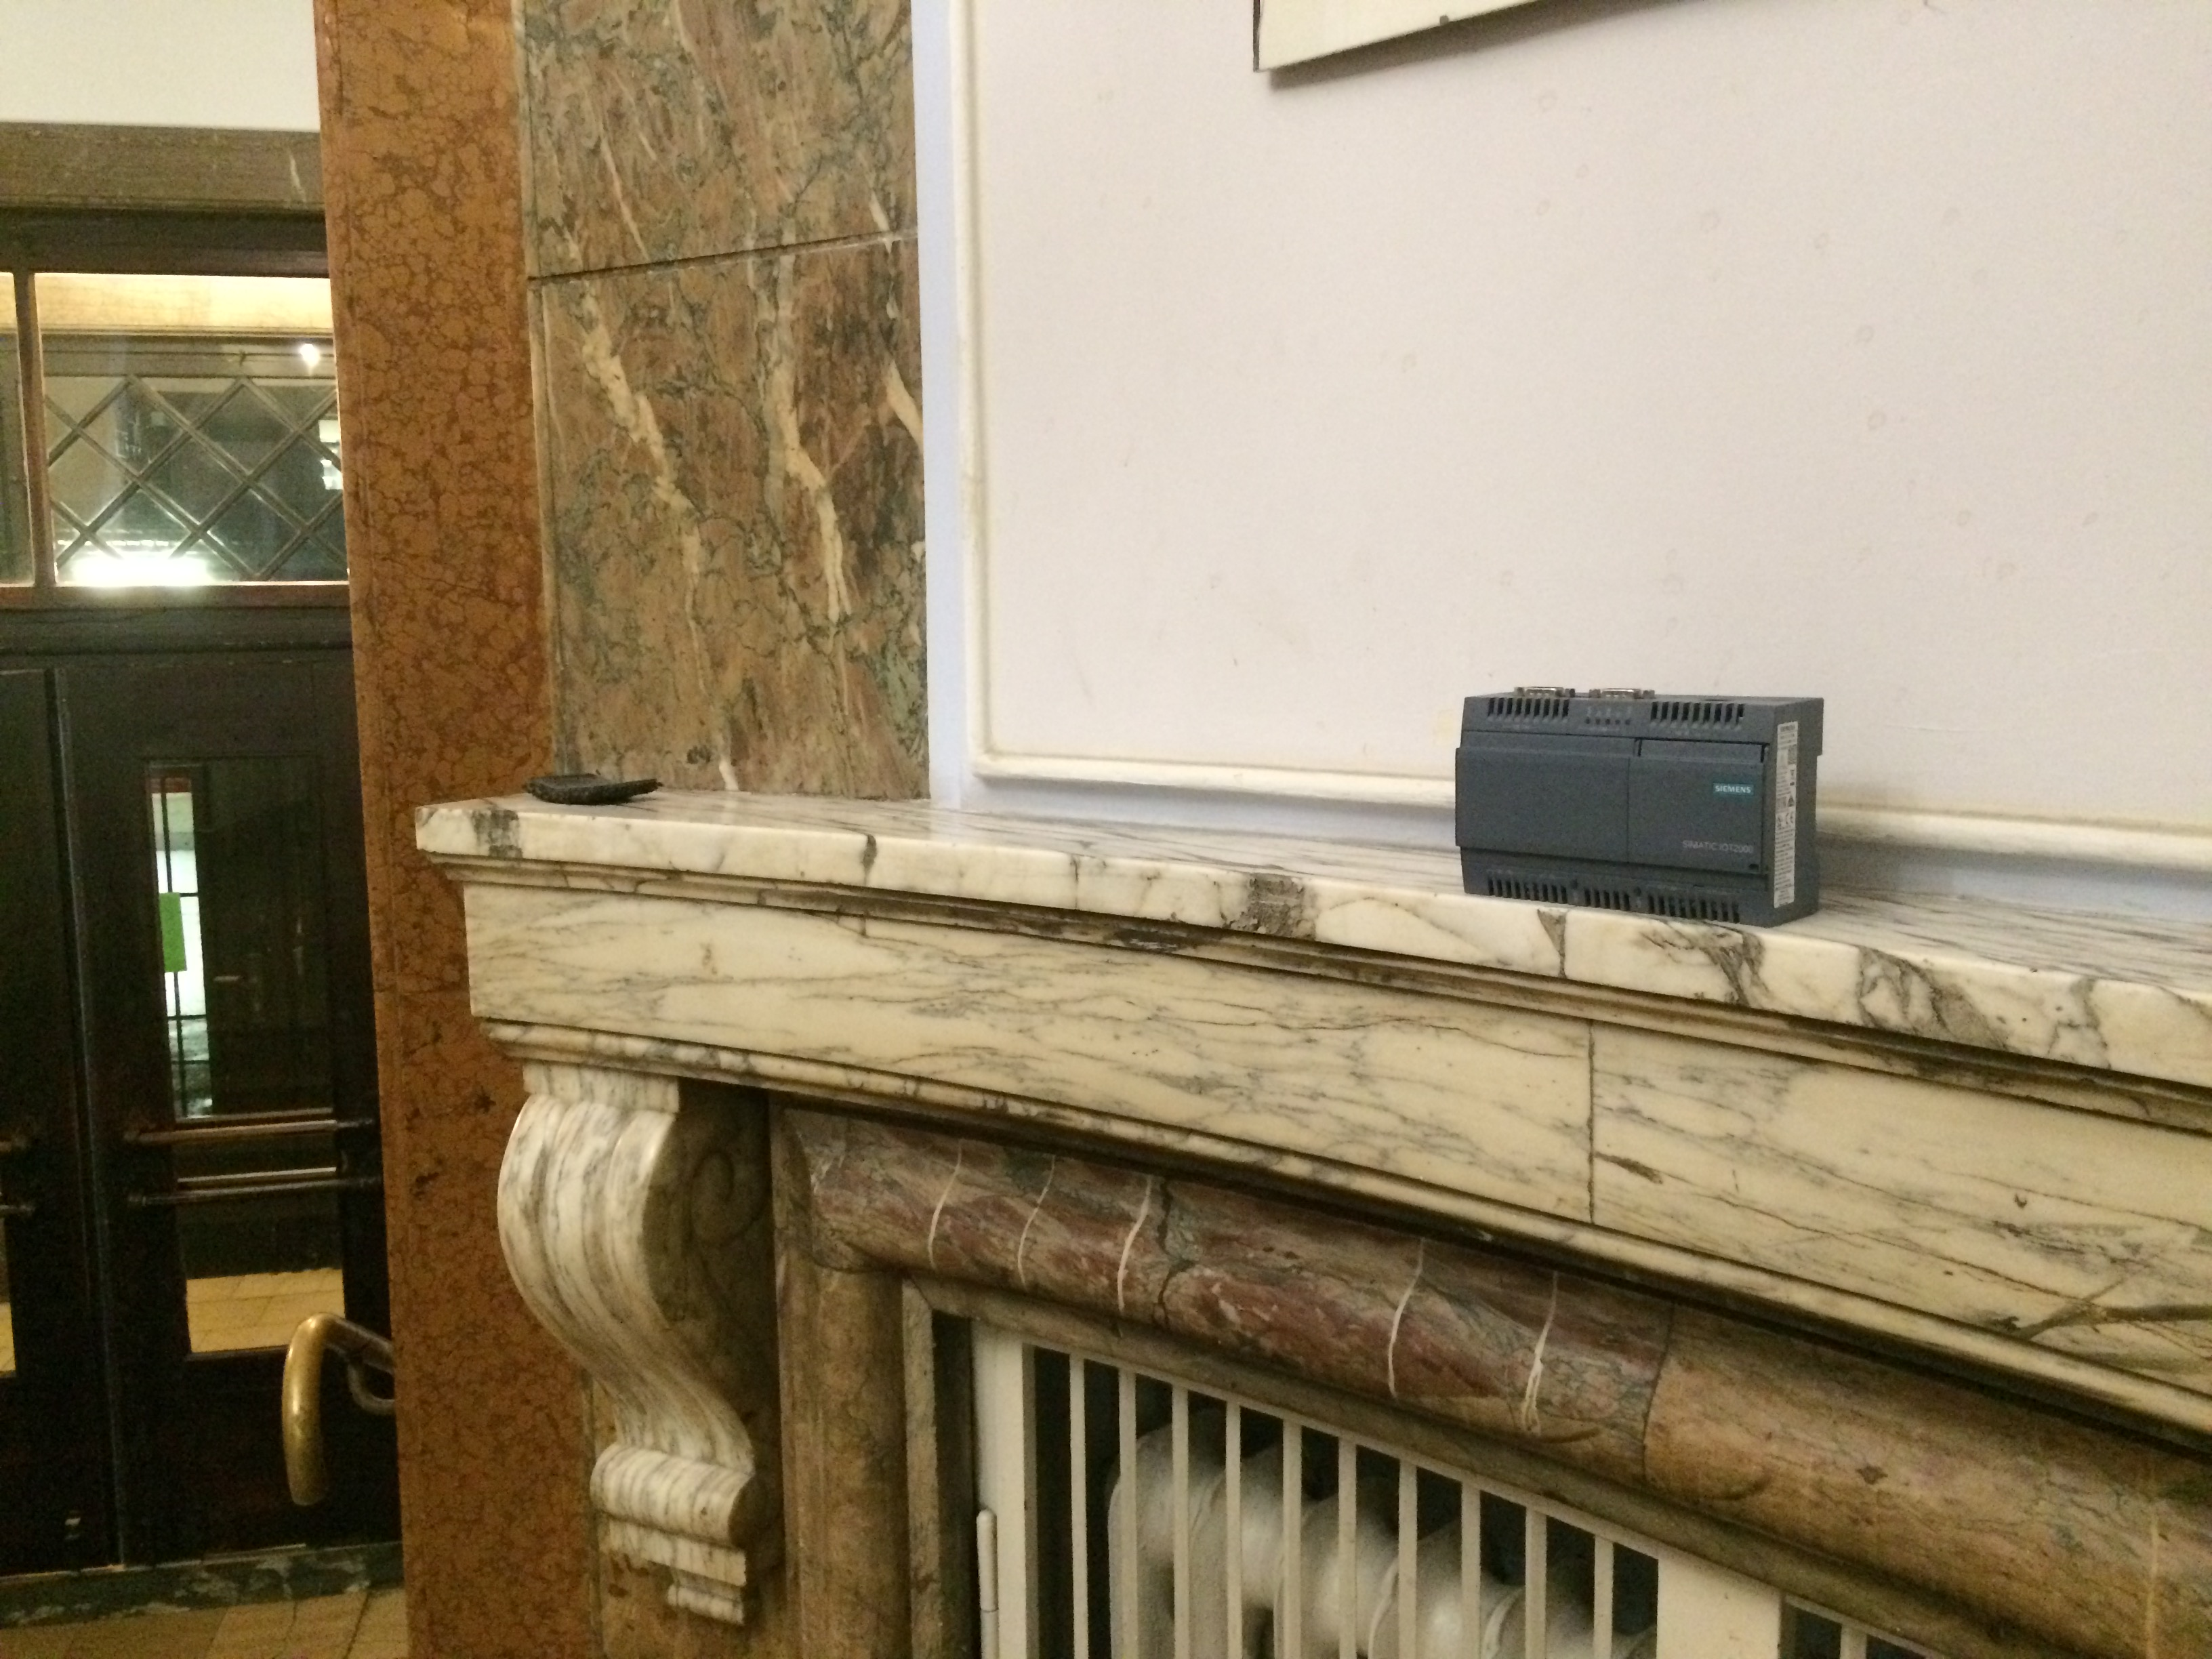iot2000: (1451, 680, 1829, 932)
